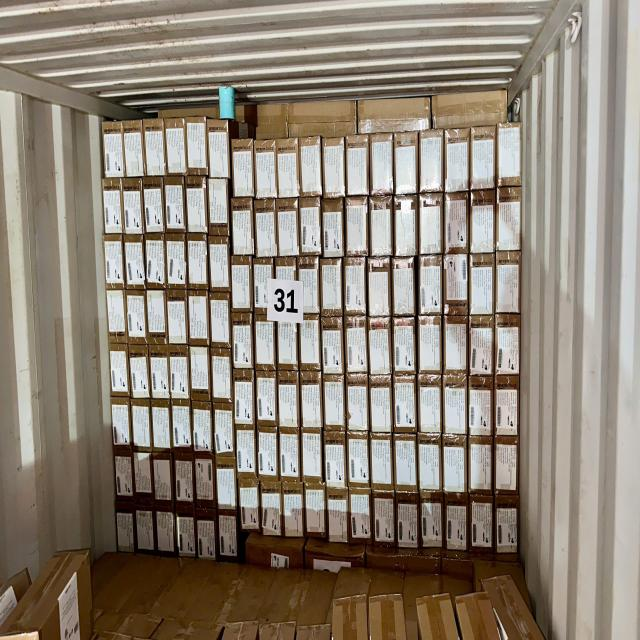Carton: (470, 124, 496, 192), (495, 254, 523, 317), (416, 375, 444, 437), (391, 313, 418, 377), (392, 434, 420, 494), (497, 122, 522, 188), (441, 436, 468, 496), (496, 190, 522, 252), (368, 315, 394, 377), (417, 314, 443, 376), (468, 375, 494, 437), (494, 315, 521, 374), (444, 131, 470, 192), (369, 376, 395, 437), (420, 192, 445, 255), (444, 194, 470, 254), (230, 198, 256, 258), (444, 256, 470, 316), (419, 130, 444, 192), (444, 316, 469, 378), (494, 498, 519, 560), (395, 131, 419, 195), (101, 120, 127, 179), (344, 198, 370, 257), (393, 196, 418, 257), (469, 315, 494, 376), (443, 375, 468, 436), (469, 496, 494, 557), (276, 140, 302, 198), (252, 260, 278, 318), (298, 139, 323, 199), (369, 196, 394, 256), (392, 257, 417, 317), (346, 134, 370, 196), (370, 134, 394, 196), (275, 258, 299, 320), (470, 253, 494, 315), (495, 374, 519, 436), (346, 377, 372, 434), (300, 373, 326, 430), (326, 488, 352, 545), (344, 316, 368, 377), (444, 498, 468, 559), (324, 432, 350, 488), (370, 435, 396, 491), (368, 258, 392, 318), (417, 436, 441, 496), (495, 436, 519, 496), (206, 118, 230, 177), (419, 256, 443, 315), (252, 315, 276, 374), (185, 118, 209, 176), (231, 139, 255, 197), (299, 198, 323, 256), (104, 288, 128, 346), (322, 316, 346, 374), (394, 377, 418, 435), (213, 401, 237, 459), (347, 432, 371, 490), (262, 484, 286, 542), (255, 140, 278, 200), (472, 192, 495, 252), (321, 258, 344, 318), (142, 179, 166, 236), (343, 259, 367, 316), (231, 314, 255, 371), (233, 371, 257, 428), (168, 344, 192, 401), (172, 453, 196, 510), (469, 438, 493, 495), (323, 136, 345, 198), (165, 175, 188, 234), (349, 491, 375, 543), (143, 121, 167, 177), (276, 199, 300, 255), (276, 316, 300, 372), (210, 348, 234, 404), (127, 344, 151, 400), (107, 342, 131, 398), (395, 496, 419, 552), (188, 288, 210, 349), (324, 199, 346, 259), (186, 176, 208, 236), (324, 375, 348, 430), (279, 370, 301, 430), (419, 496, 443, 551), (283, 485, 305, 545), (122, 180, 146, 234), (256, 373, 280, 427), (214, 457, 238, 511), (300, 430, 324, 484), (303, 486, 327, 540), (207, 179, 230, 235), (131, 397, 154, 453), (255, 199, 277, 257), (127, 288, 149, 346), (190, 342, 212, 400), (278, 430, 302, 483), (123, 121, 145, 178), (299, 317, 321, 374), (174, 505, 198, 557), (193, 456, 217, 508), (373, 493, 397, 545), (238, 483, 262, 535), (102, 180, 125, 234), (165, 235, 188, 289), (208, 237, 230, 293), (210, 290, 232, 346), (110, 396, 132, 452), (132, 448, 154, 504), (135, 502, 157, 558), (256, 427, 278, 483), (218, 509, 240, 564), (300, 257, 320, 317), (166, 119, 187, 176), (171, 401, 194, 453), (151, 452, 174, 504), (231, 260, 253, 314), (147, 290, 168, 346), (192, 403, 214, 456), (155, 506, 177, 559), (145, 235, 166, 290), (187, 235, 208, 290), (196, 510, 218, 562), (125, 235, 146, 289), (168, 290, 188, 346), (150, 406, 173, 454), (150, 344, 170, 399), (114, 504, 136, 554), (104, 238, 125, 290), (114, 449, 134, 501), (236, 428, 256, 480)
